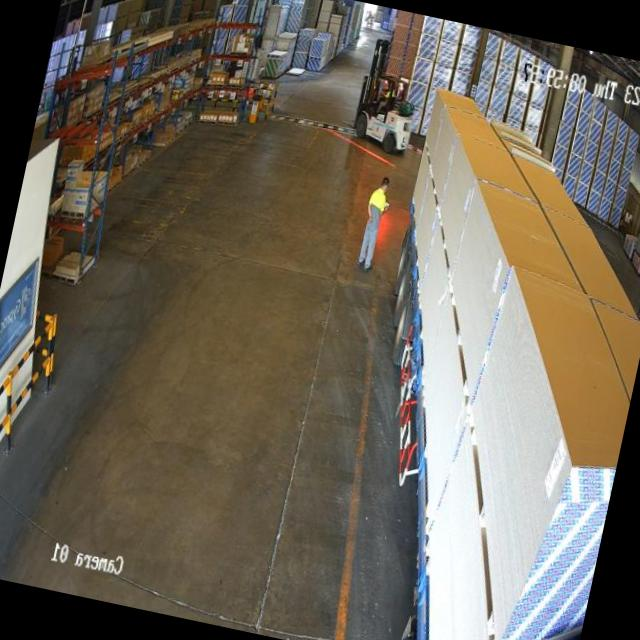forklift: (345, 66, 422, 160)
person: (352, 168, 396, 275)
